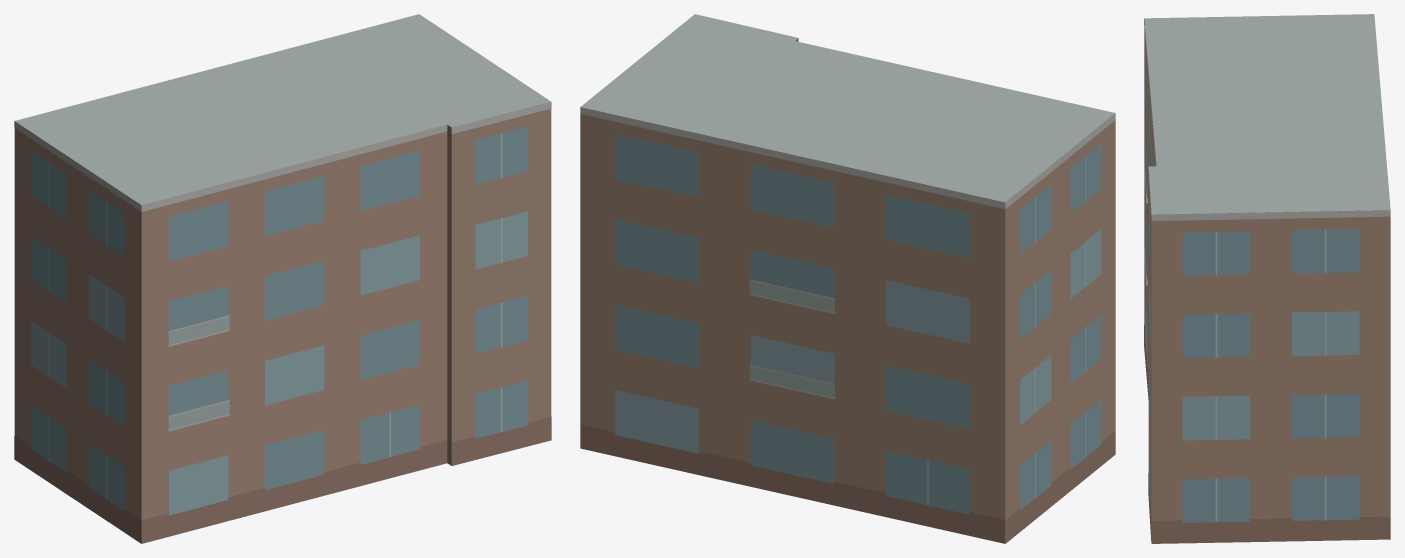
File: survey-upis-32584173.glb
The picture shows the model from 3 angles, left to right: view 1: azimuth 30°, elevation 25°; view 2: azimuth 150°, elevation 25°; view 3: azimuth 270°, elevation 25°; orthographic projection. The views are drawn at different scales.
Visible parts, largest first — view 1: survey-upis-32584173.tmp; view 2: survey-upis-32584173.tmp; view 3: survey-upis-32584173.tmp.
Part boxes in pixels (left/top/right/bottom): survey-upis-32584173.tmp: left=14, top=14, right=551, bottom=543; survey-upis-32584173.tmp: left=580, top=14, right=1115, bottom=543; survey-upis-32584173.tmp: left=1144, top=14, right=1390, bottom=543.
Bounding box in the file's own units: 16.02 × 12.26 × 8.32.
